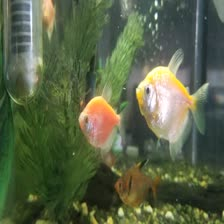Plano: (133, 56, 210, 154), (75, 82, 128, 150)
Transparente: (109, 159, 166, 206)
